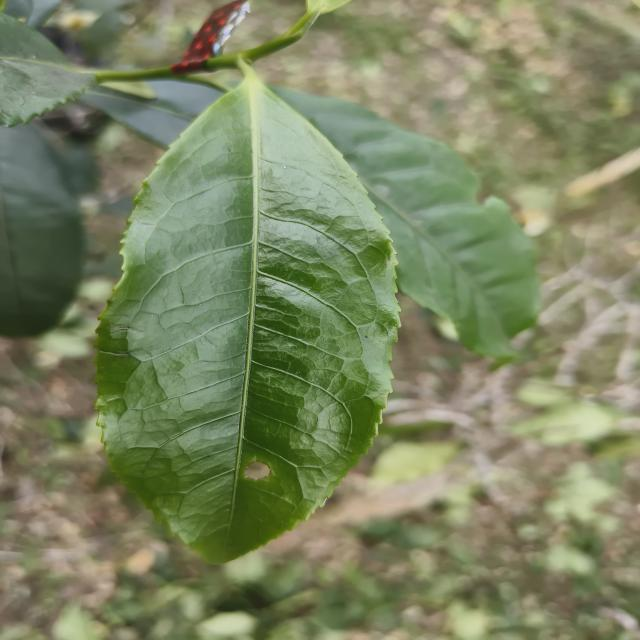Leaf: (96, 66, 399, 562), (275, 88, 539, 359), (0, 124, 84, 337), (0, 14, 95, 127), (371, 441, 459, 486)
